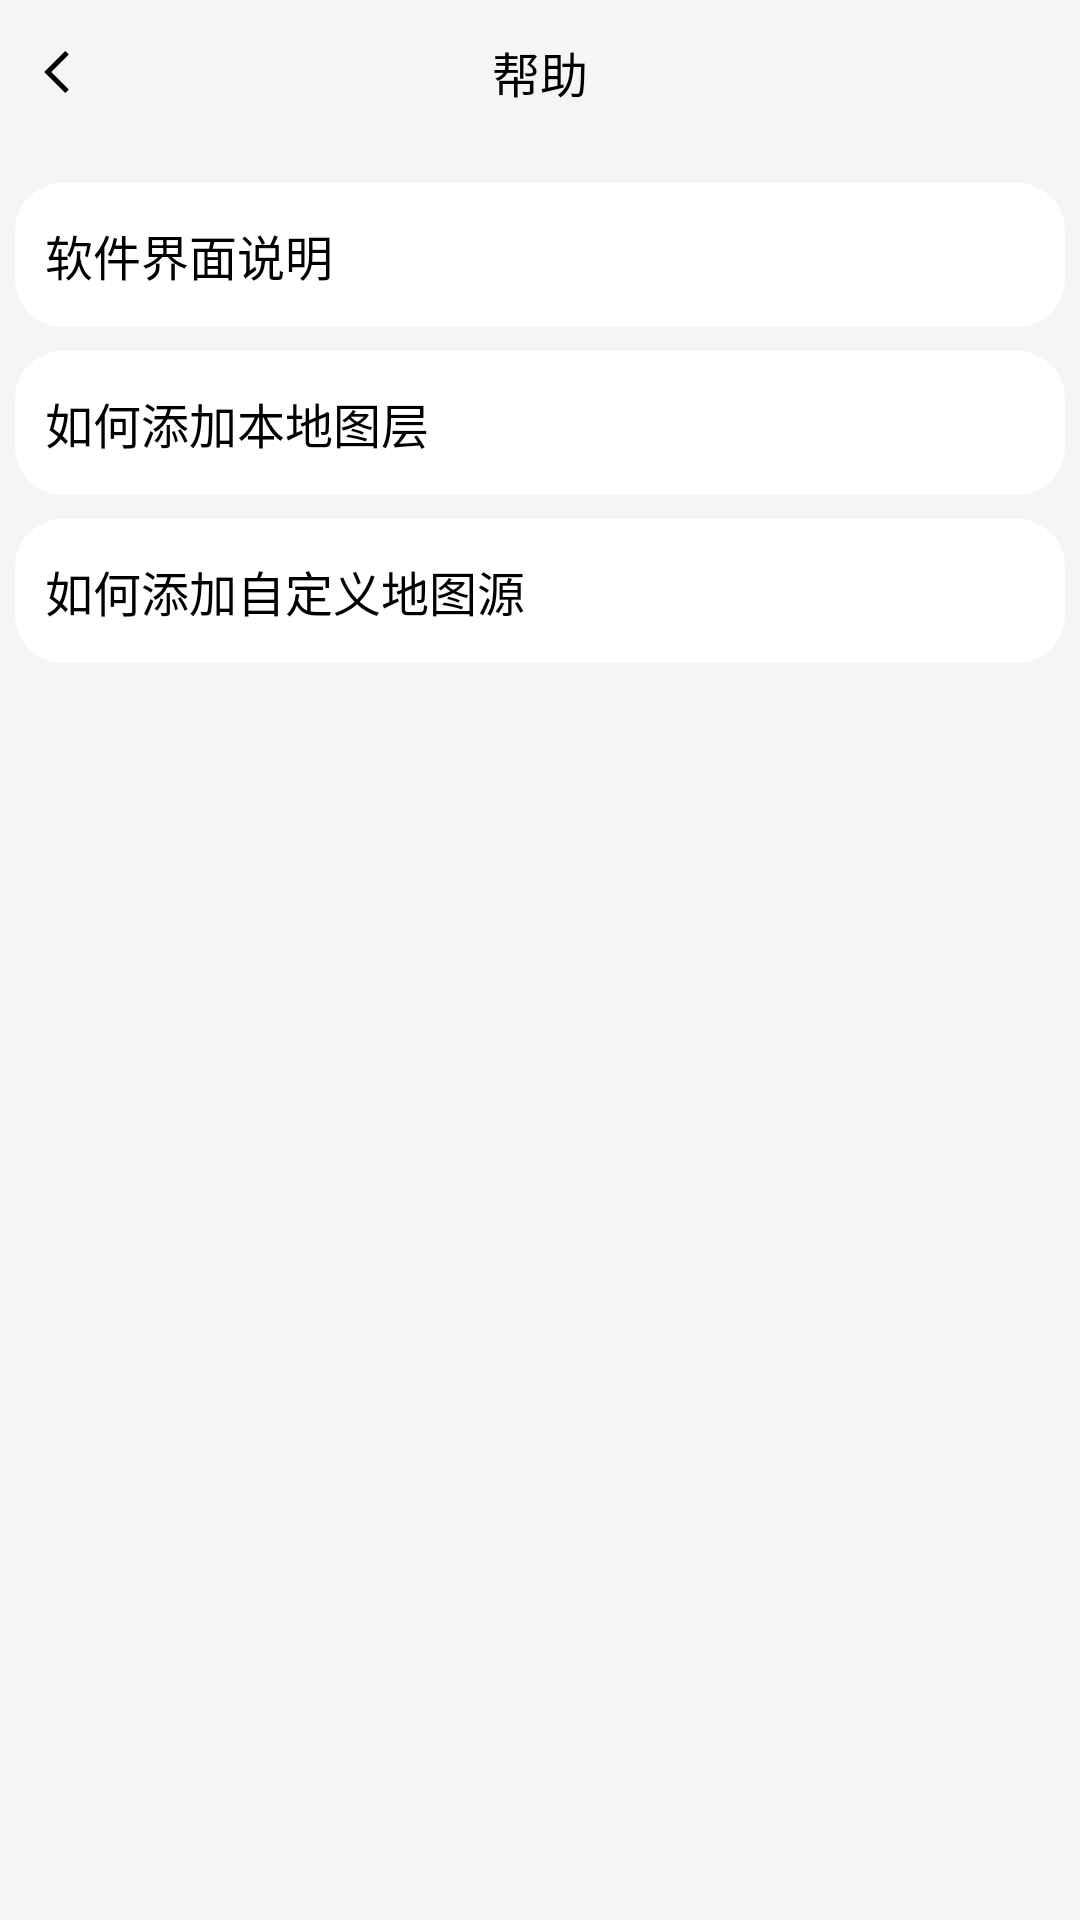

Screen size 1080w x 1920h. Icon name, then its box in pixels as [x1,y1,x2,y2]:
返回: [44,51,69,93]
